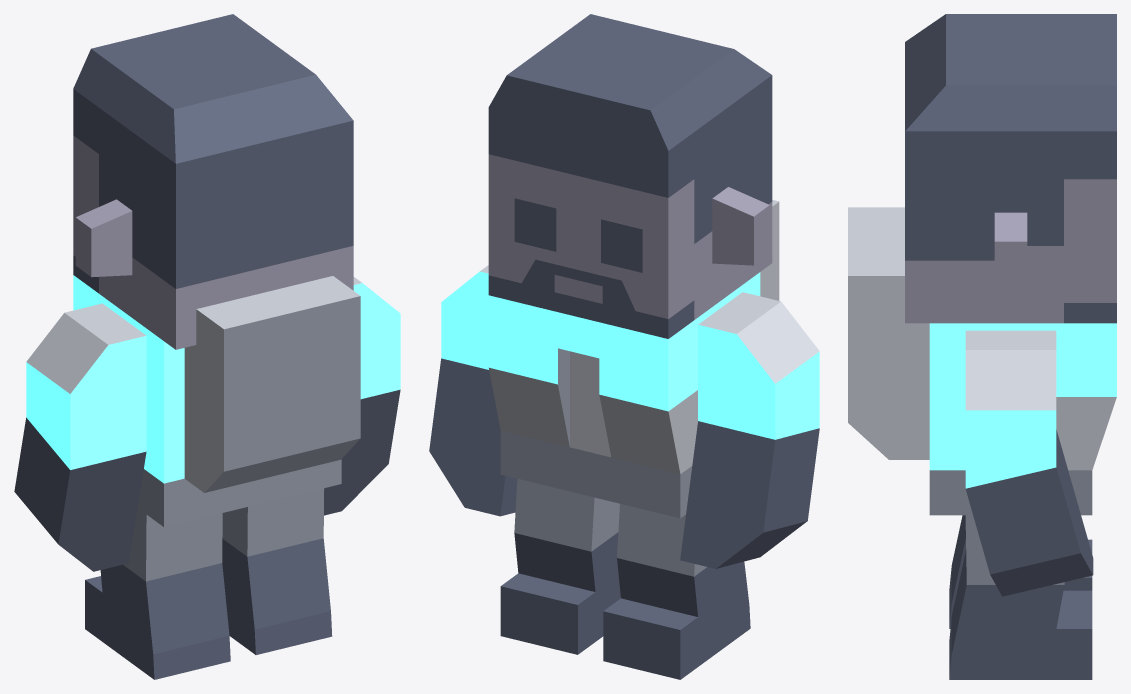
The model's file is astronautB.glb.
3 renders of one model, left to right at view 1: azimuth 30°, elevation 25°; view 2: azimuth 150°, elevation 25°; view 3: azimuth 270°, elevation 25°, orthographic. The views are drawn at different scales.
Visible parts, largest first — view 1: head, body, armLeft, legLeft, legRight, armRight; view 2: head, body, armLeft, legLeft, legRight, armRight; view 3: head, body, armRight, legRight, legLeft.
Part boxes in pixels (<box>): head: <box>73,14,353,349</box>; body: <box>73,275,360,527</box>; armLeft: <box>14,303,146,571</box>; legLeft: <box>85,508,230,679</box>; legRight: <box>222,488,332,654</box>; armRight: <box>324,277,400,515</box>; head: <box>488,14,772,338</box>; body: <box>488,200,779,518</box>; armLeft: <box>680,292,819,568</box>; legLeft: <box>603,504,750,679</box>; legRight: <box>500,478,620,654</box>; armRight: <box>429,265,517,516</box>; head: <box>905,14,1116,323</box>; body: <box>848,207,1116,515</box>; armRight: <box>965,330,1093,596</box>; legRight: <box>949,515,1092,679</box>; legLeft: <box>949,515,1092,628</box>.
Size of the model in its own units: 0.4832 by 0.7932 by 0.33.
